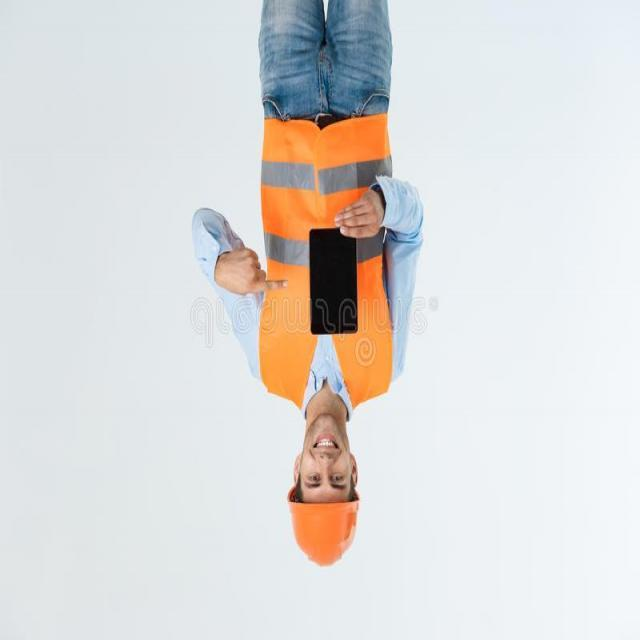safetyhelmet: (258, 386, 388, 568)
